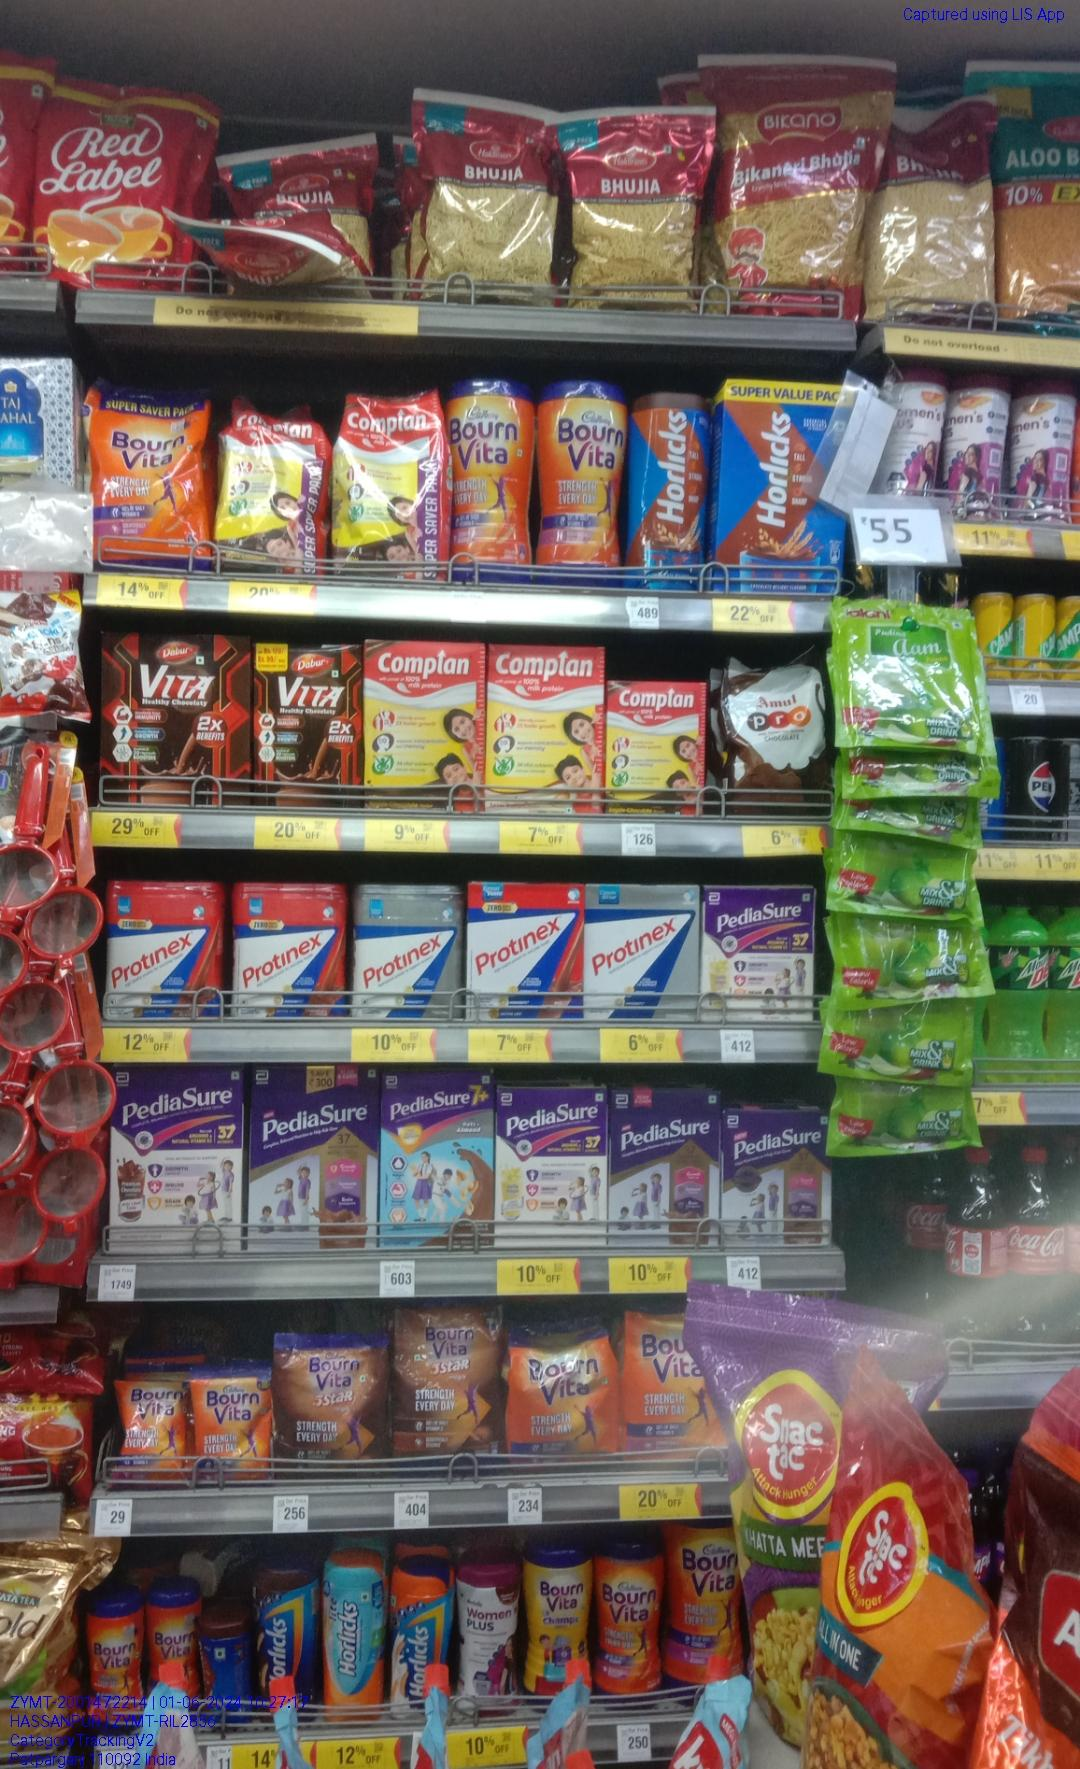COMPLAN_CHOCOLATE_200_GMS_PACK: (608, 679, 707, 819)
COMPLAN_CHOCOLATE_500_GMS_PACK: (365, 641, 486, 823)
COMPLAN_KESAR_BADAM_500_GMS_PACK: (490, 641, 604, 819)
HORLICK_CHOCOLATE_500_G_JAR: (629, 388, 706, 591), (261, 1561, 321, 1727)
HORLICK_CLASSIC_MALT_500_G_JAR: (388, 1552, 453, 1725)
